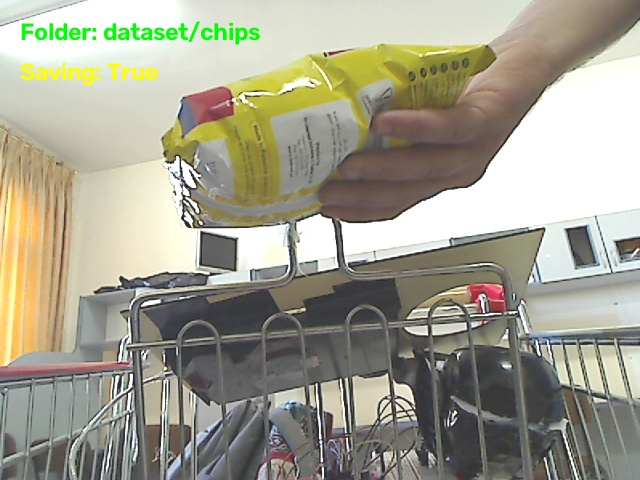chips: (163, 44, 494, 226)
